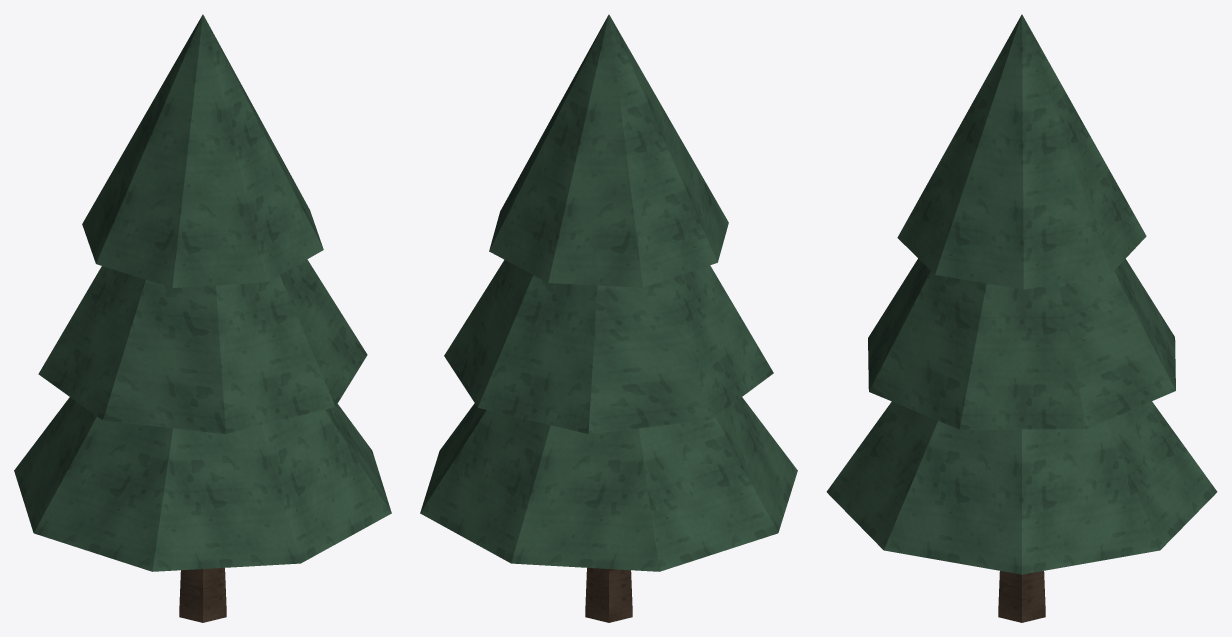
The model's file is pine_tree_c.glb.
The picture shows the model from 3 angles, left to right: view 1: azimuth 30°, elevation 25°; view 2: azimuth 150°, elevation 25°; view 3: azimuth 270°, elevation 25°; orthographic projection.
Parts seen in each view (by area): view 1: PineTreeC; view 2: PineTreeC; view 3: PineTreeC.
Boxes of the visible parts, bbox=[...] form: PineTreeC: bbox=[14, 14, 391, 622]; PineTreeC: bbox=[420, 14, 797, 622]; PineTreeC: bbox=[826, 14, 1217, 622].
Size of the model in its own units: 2.82 by 4.76 by 2.82.
Materials: 2 (2 with a texture image).
